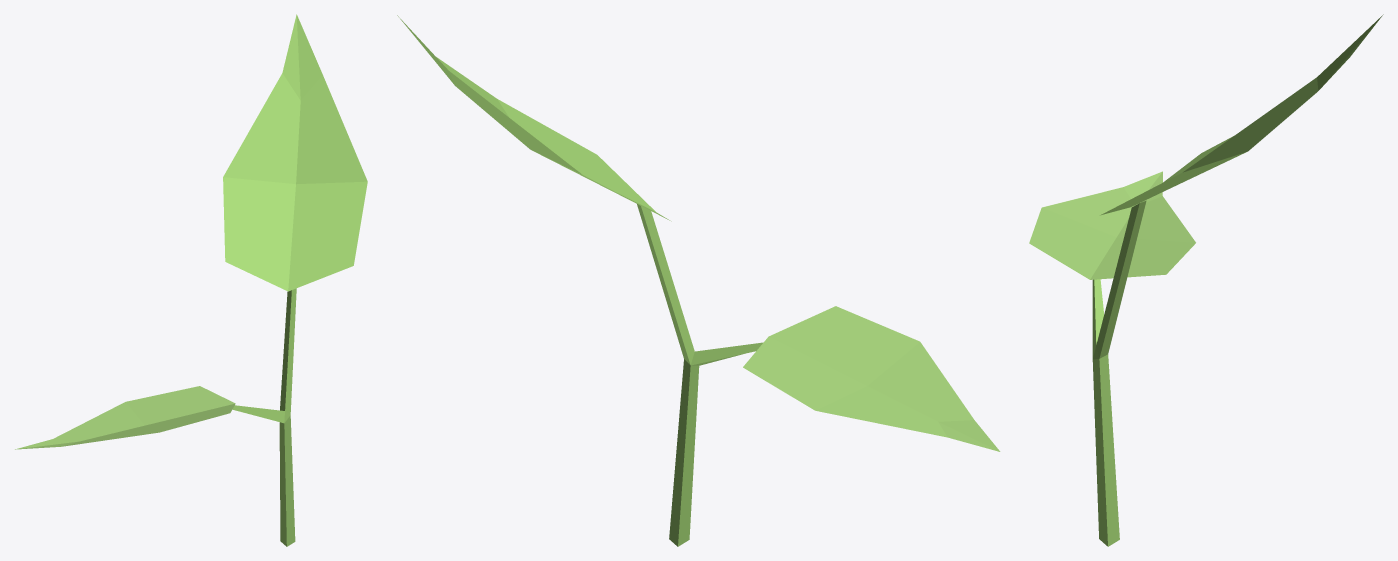
File: Plant_f_OneS_04.fbx
The picture shows the model from 3 angles, left to right: view 1: azimuth 30°, elevation 25°; view 2: azimuth 150°, elevation 25°; view 3: azimuth 270°, elevation 25°; orthographic projection. The views are drawn at different scales.
Visible parts, largest first — view 1: Plant_f_OneS_04; view 2: Plant_f_OneS_04; view 3: Plant_f_OneS_04.
Part boxes in pixels (x1,y1,x2,y2): Plant_f_OneS_04: (15, 14, 367, 546); Plant_f_OneS_04: (397, 15, 1000, 546); Plant_f_OneS_04: (1029, 14, 1383, 546).
Size of the model in its own units: 53.52 by 60.53 by 32.38.
